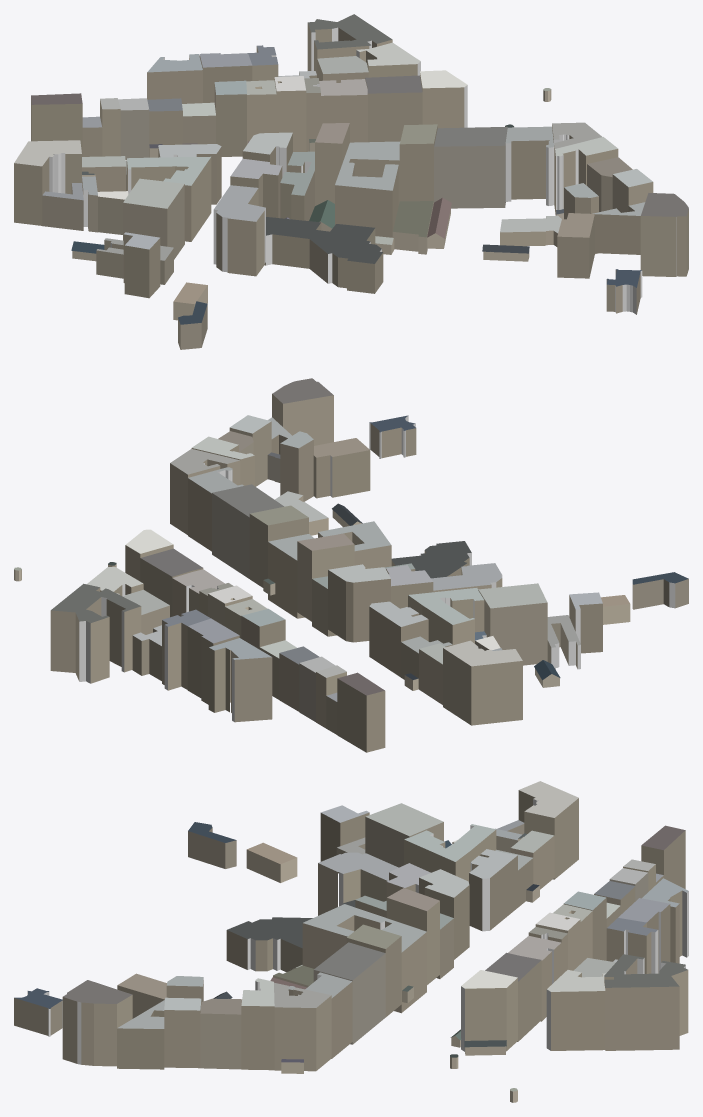
The picture shows the model from 3 angles, top to bottom: view 1: azimuth 30°, elevation 25°; view 2: azimuth 150°, elevation 25°; view 3: azimuth 270°, elevation 25°; orthographic projection. The views are drawn at different scales.
Parts seen in each view (by area): view 1: tuile; view 2: tuile; view 3: tuile.
Boxes of the visible parts, bbox=[...] form: tuile: bbox=[14, 14, 688, 349]; tuile: bbox=[14, 378, 688, 752]; tuile: bbox=[14, 781, 688, 1102].
Bounding box in the file's own units: 243 × 36.62 × 261.
